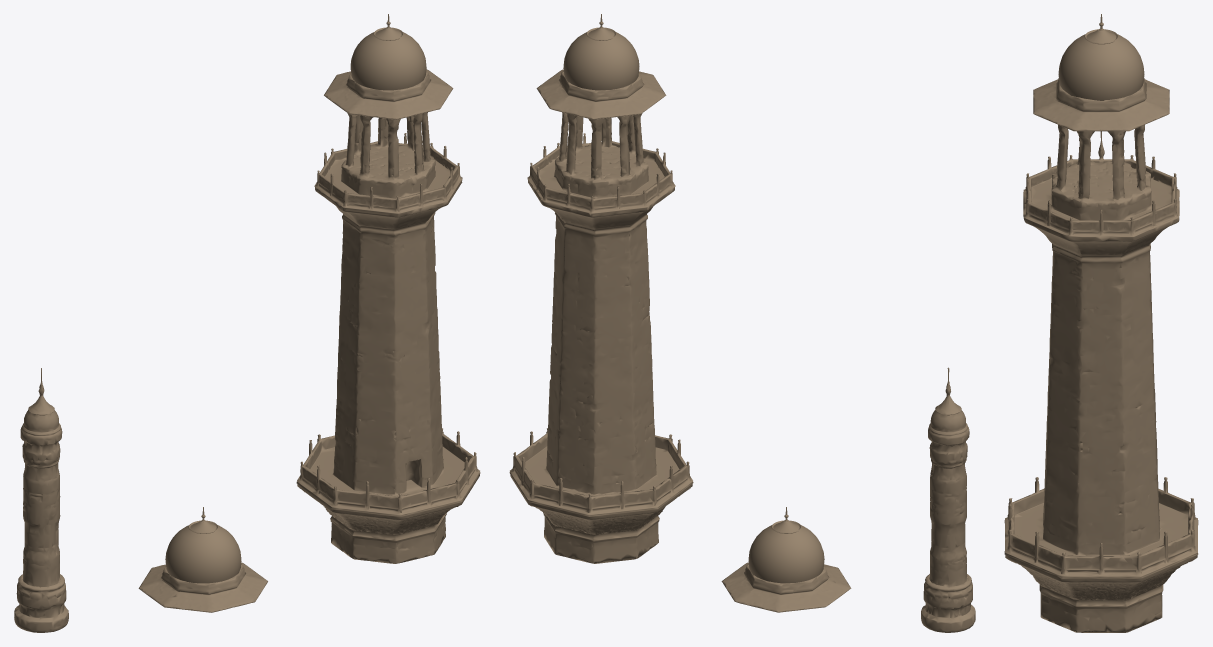
Rendered from DesertFortressTowers.fbx.
3 views of the same model, side by side, from view 1: azimuth 30°, elevation 25°; view 2: azimuth 150°, elevation 25°; view 3: azimuth 270°, elevation 25° (orthographic). The views are drawn at different scales.
Parts seen in each view (by area): view 1: DesertTemple_Tower_Medium_01.001, DesertTemple_Pillar_Bulb_01, DesertTemple_Tower_Medium_01; view 2: DesertTemple_Tower_Medium_01.001, DesertTemple_Pillar_Bulb_01, DesertTemple_Tower_Medium_01; view 3: DesertTemple_Tower_Medium_01.001.
Boxes of the visible parts, left/top/right/bottom form: DesertTemple_Tower_Medium_01.001: left=296, top=14, right=480, bottom=563; DesertTemple_Pillar_Bulb_01: left=14, top=368, right=68, bottom=632; DesertTemple_Tower_Medium_01: left=138, top=507, right=267, bottom=612; DesertTemple_Tower_Medium_01.001: left=509, top=14, right=693, bottom=563; DesertTemple_Pillar_Bulb_01: left=921, top=367, right=975, bottom=632; DesertTemple_Tower_Medium_01: left=721, top=507, right=851, bottom=612; DesertTemple_Tower_Medium_01.001: left=1004, top=14, right=1198, bottom=632.
Bounding box in the file's own units: 1924 × 2176 × 644.
